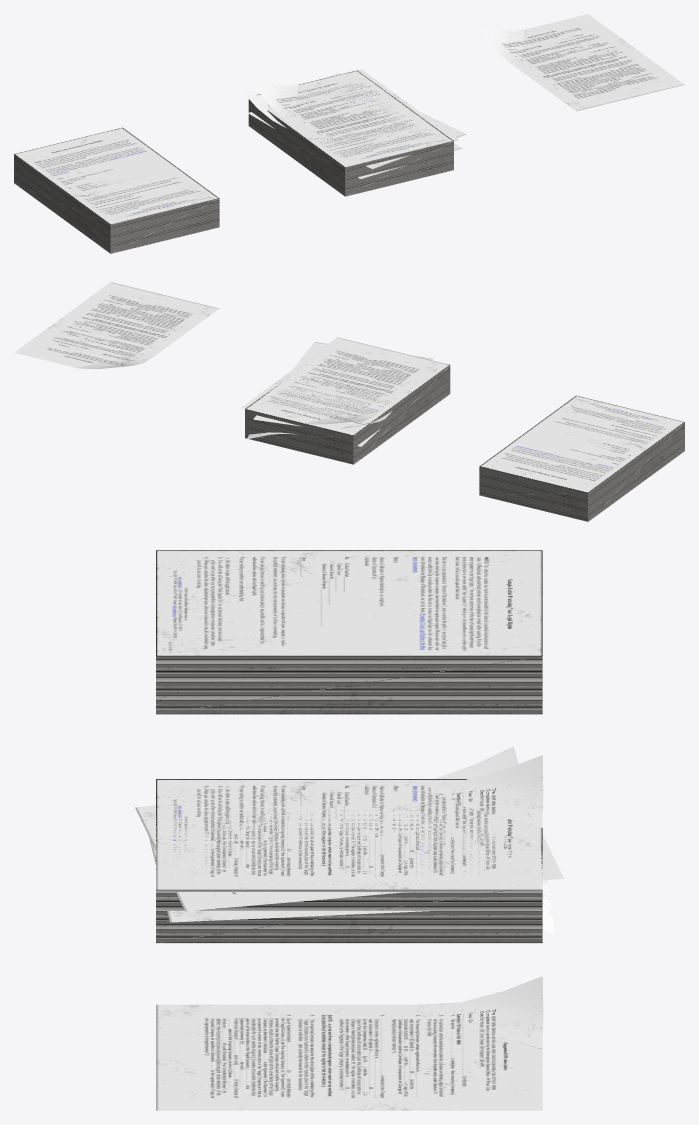
Rendered from paper_-_3mb.glb.
3 renders of one model, top to bottom at view 1: azimuth 30°, elevation 25°; view 2: azimuth 150°, elevation 25°; view 3: azimuth 270°, elevation 25°, orthographic. The views are drawn at different scales.
Visible parts, largest first — view 1: 01_1_all_0, 01_all_0, 02_3_all_0, 02_all_0, 02_1_all_0; view 2: 01_1_all_0, 01_all_0, 02_3_all_0, 02_all_0, 02_1_all_0; view 3: 01_1_all_0, 02_3_all_0, 01_all_0, 02_all_0, 02_1_all_0, 02_2_all_0.
Part boxes in pixels (box(x1,y1,x2,y2)): 01_1_all_0: box(14, 127, 219, 253); 01_all_0: box(248, 70, 453, 196); 02_3_all_0: box(479, 14, 684, 111); 02_all_0: box(253, 69, 457, 156); 02_1_all_0: box(245, 73, 466, 169); 01_1_all_0: box(479, 395, 684, 521); 01_all_0: box(245, 342, 450, 464); 02_3_all_0: box(14, 282, 219, 368); 02_all_0: box(241, 337, 445, 424); 02_1_all_0: box(253, 342, 432, 428); 01_1_all_0: box(156, 550, 542, 714); 02_3_all_0: box(156, 976, 543, 1110); 01_all_0: box(156, 779, 542, 943); 02_all_0: box(156, 755, 543, 889); 02_1_all_0: box(135, 746, 563, 911); 02_2_all_0: box(149, 837, 554, 933).
Bounding box in the file's own units: 3.43 × 0.2464 × 1.11.
Materials: 1 (1 with a texture image).
